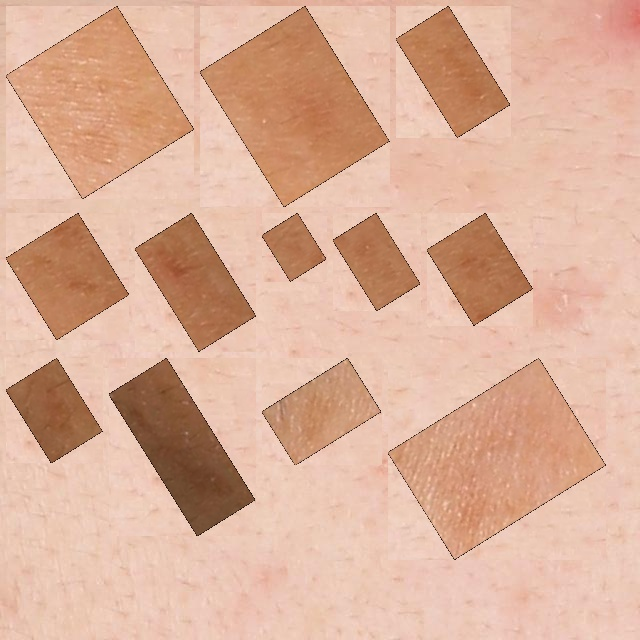melasma: (399, 369, 595, 548), (211, 17, 378, 196), (17, 17, 183, 187), (120, 369, 244, 525), (146, 224, 245, 340), (17, 224, 118, 328), (407, 17, 499, 126), (273, 369, 370, 454), (438, 224, 522, 314), (17, 369, 91, 452), (344, 224, 409, 299), (273, 224, 315, 270)
